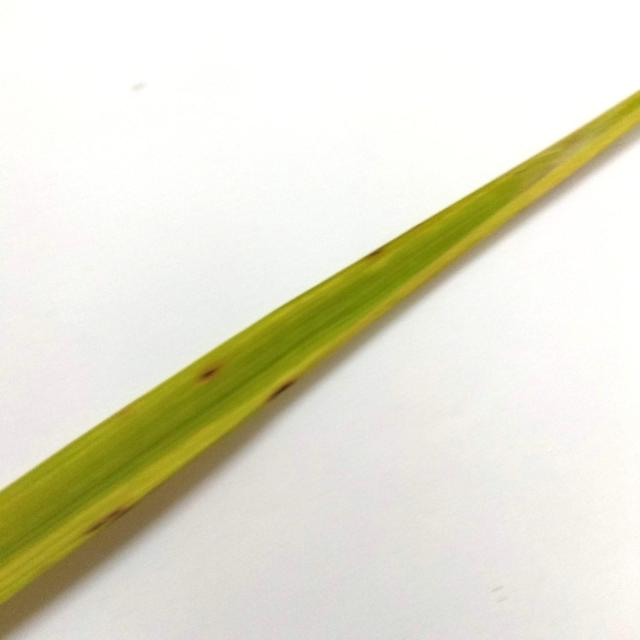Brown spot: (0, 77, 640, 614)
